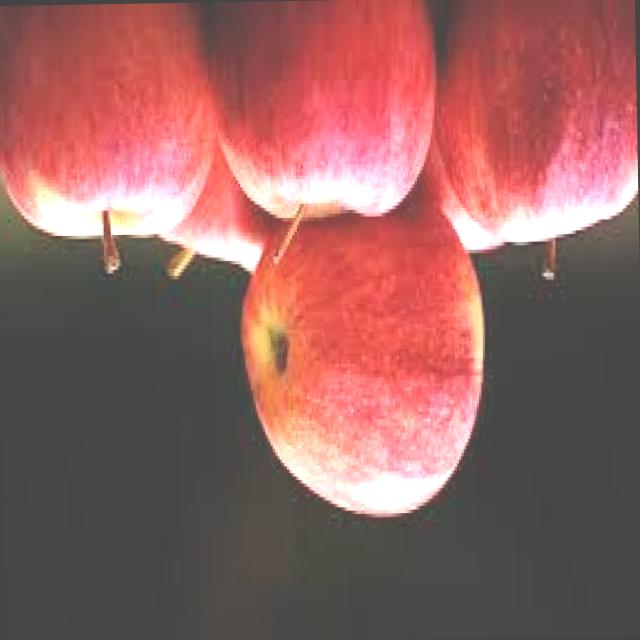Apple: (237, 189, 490, 522), (211, 1, 442, 268), (0, 4, 220, 278), (432, 0, 638, 249)
